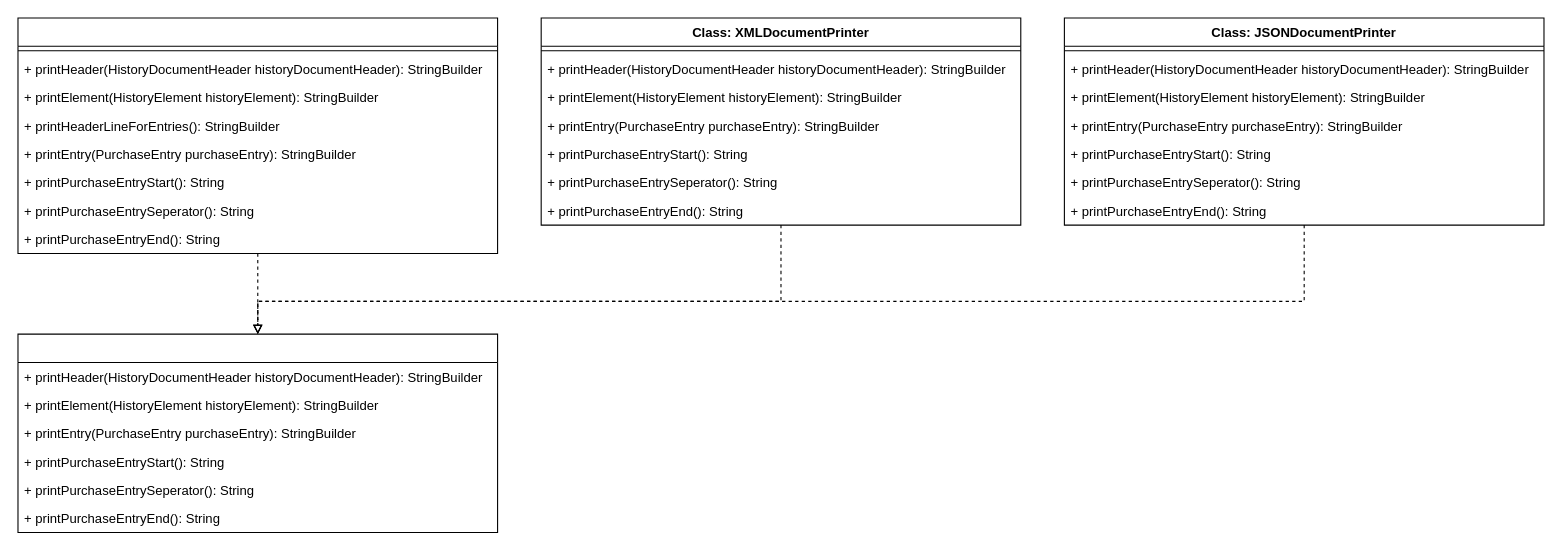
The diagram is 1562 pixels wide and 550 high, and some of its shapes have lost their labels. The shapes that lost their labels are listed below. From the top down, each one's box as (x1, y1, x2, y2) in pixels, then its label:
(17, 17, 498, 253): Class: CSVDocumentPrinter
(17, 333, 498, 532): Interface: DocumentPrinter
